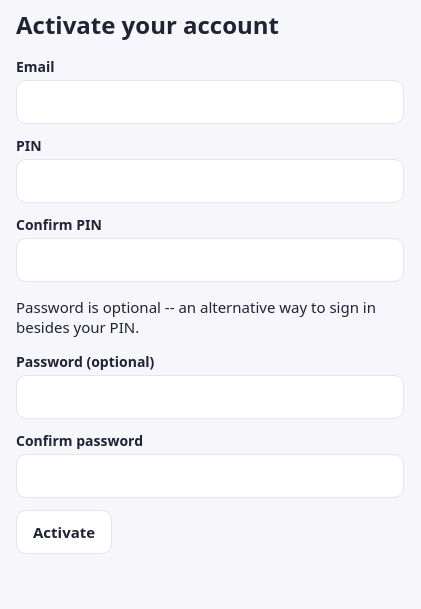
ActivationPage › mismatched password confirmation blocks submission when a password is entered
In the field labelled "Email": [210, 102] box 16,80 -> 404,124, type "alice@example.com"
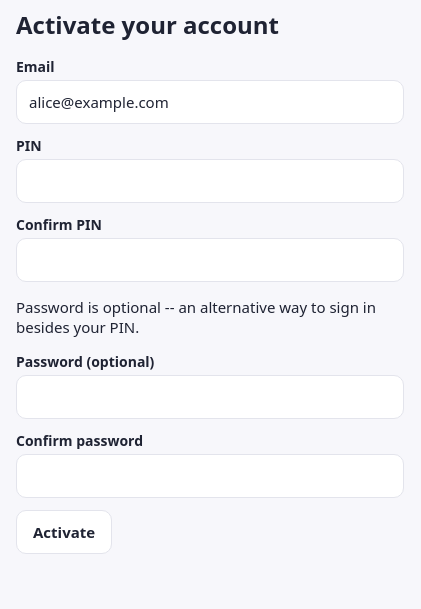
In the password field labelled "PIN": [210, 181] box 16,159 -> 404,203, type "1234"
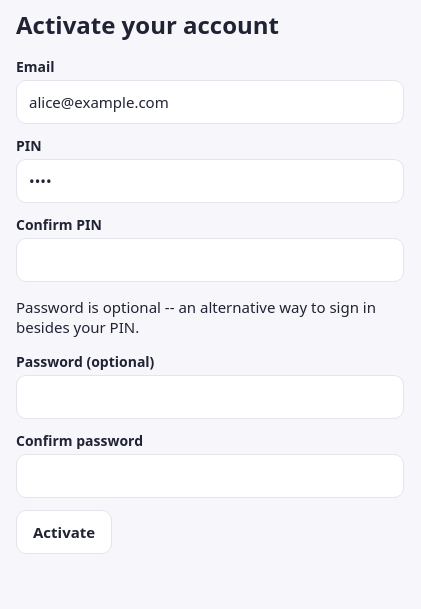
In the password field labelled "Confirm PIN": [210, 260] box 16,238 -> 404,282, type "1234"
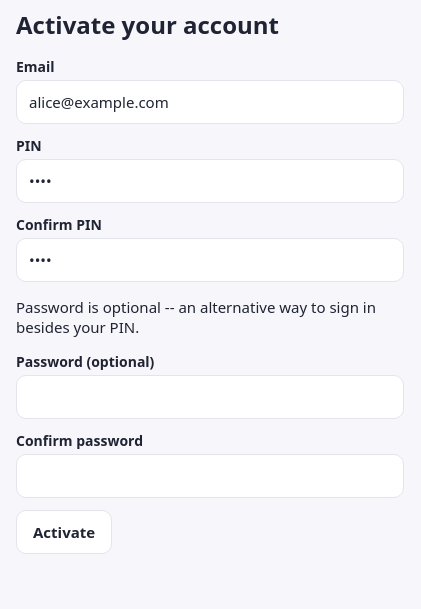
In the password field labelled "Password (optional)": [210, 397] box 16,375 -> 404,419, type "a-password-1"
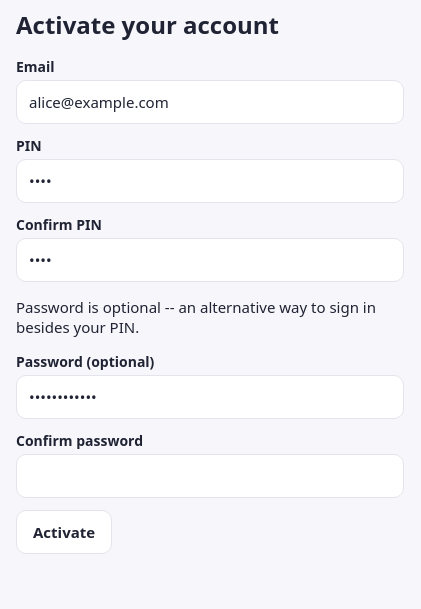
In the password field labelled "Confirm password": [210, 476] box 16,454 -> 404,498, type "different"
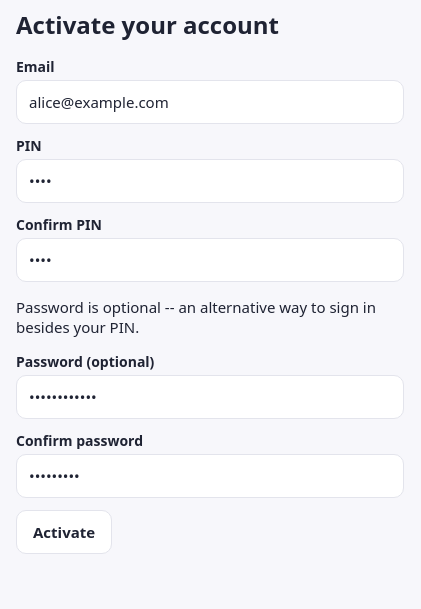
Click the button "Activate": [64, 532] box 16,510 -> 112,554
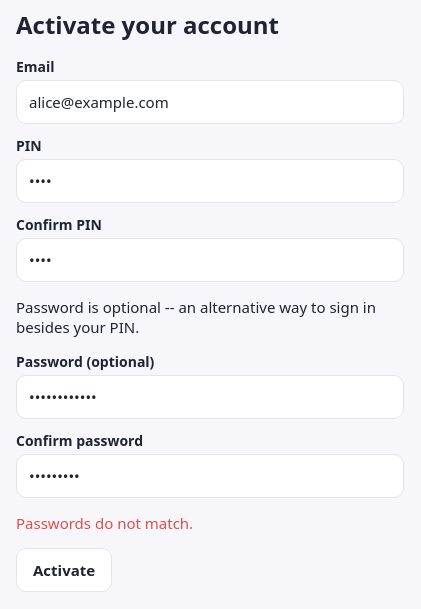
Check: the message shows "Passwords do not match", box 16,513 -> 193,533
